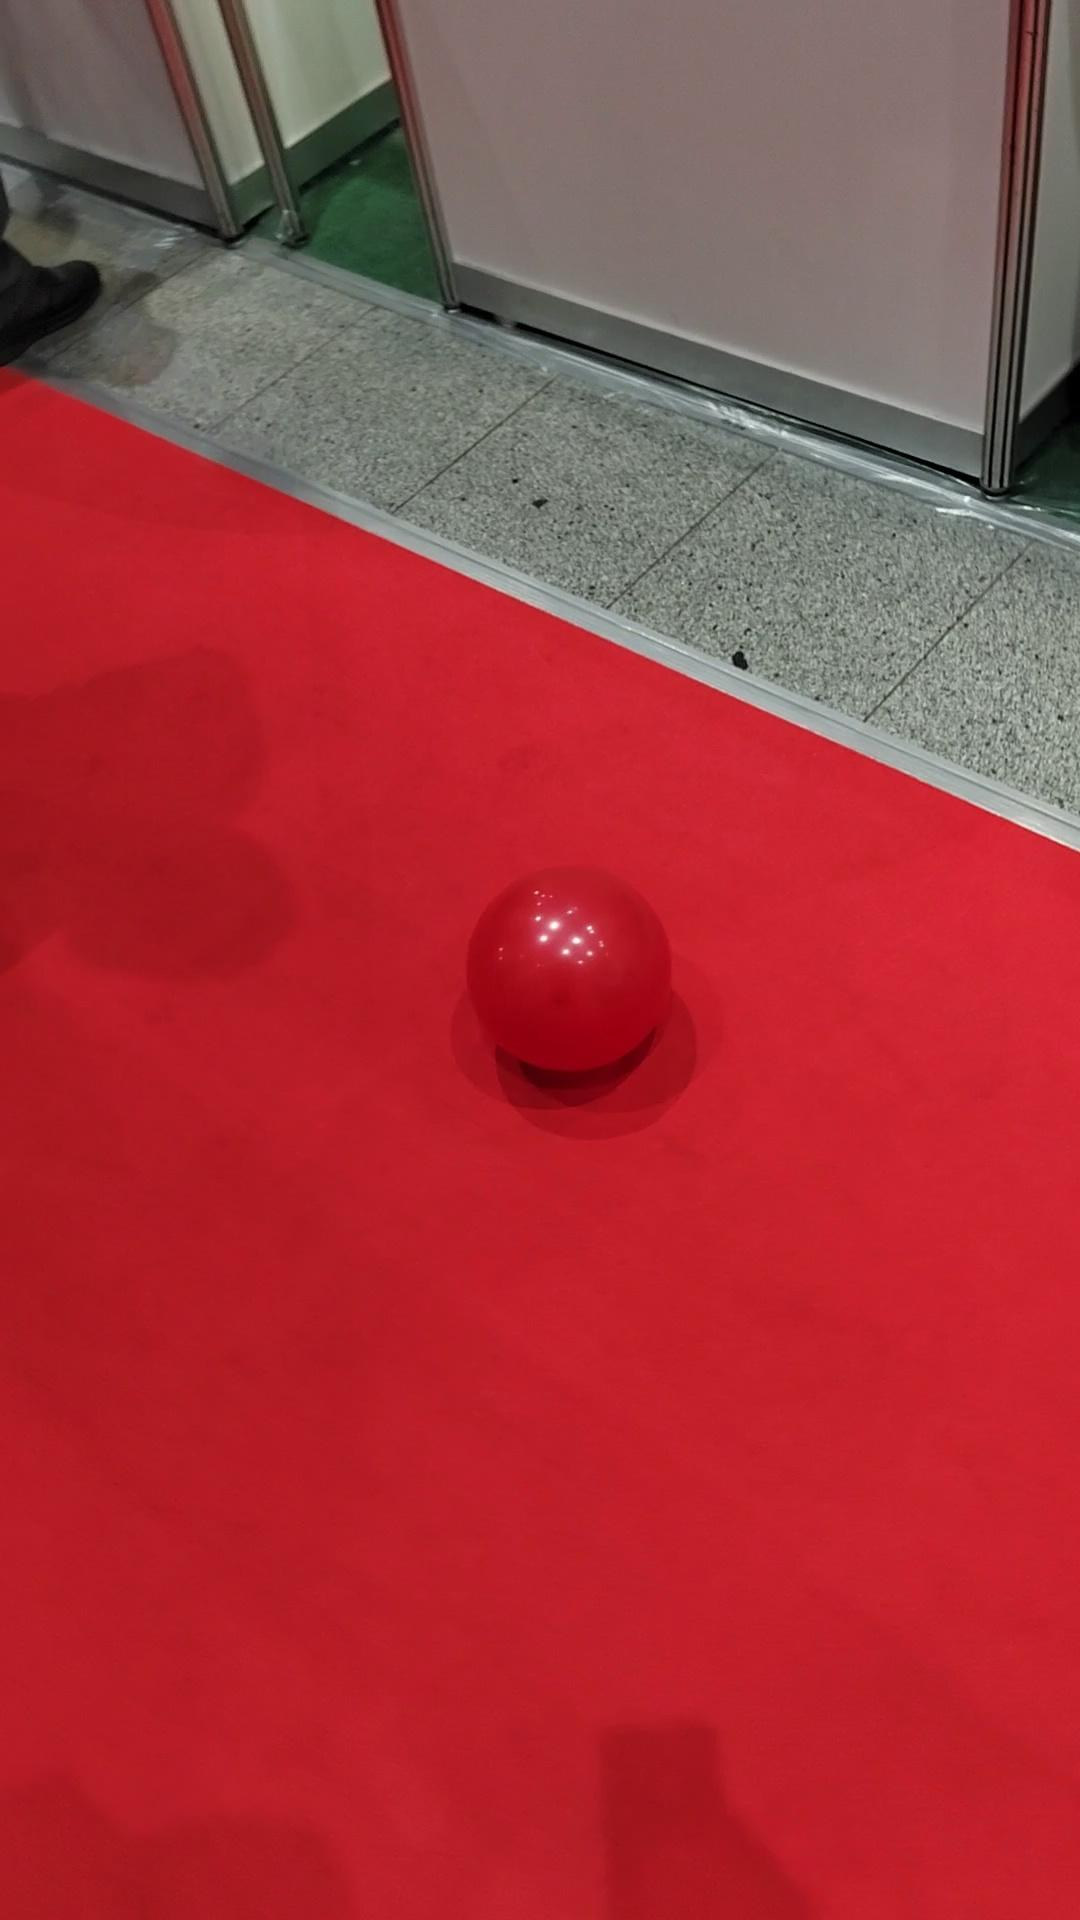red: (463, 866, 667, 1073)
